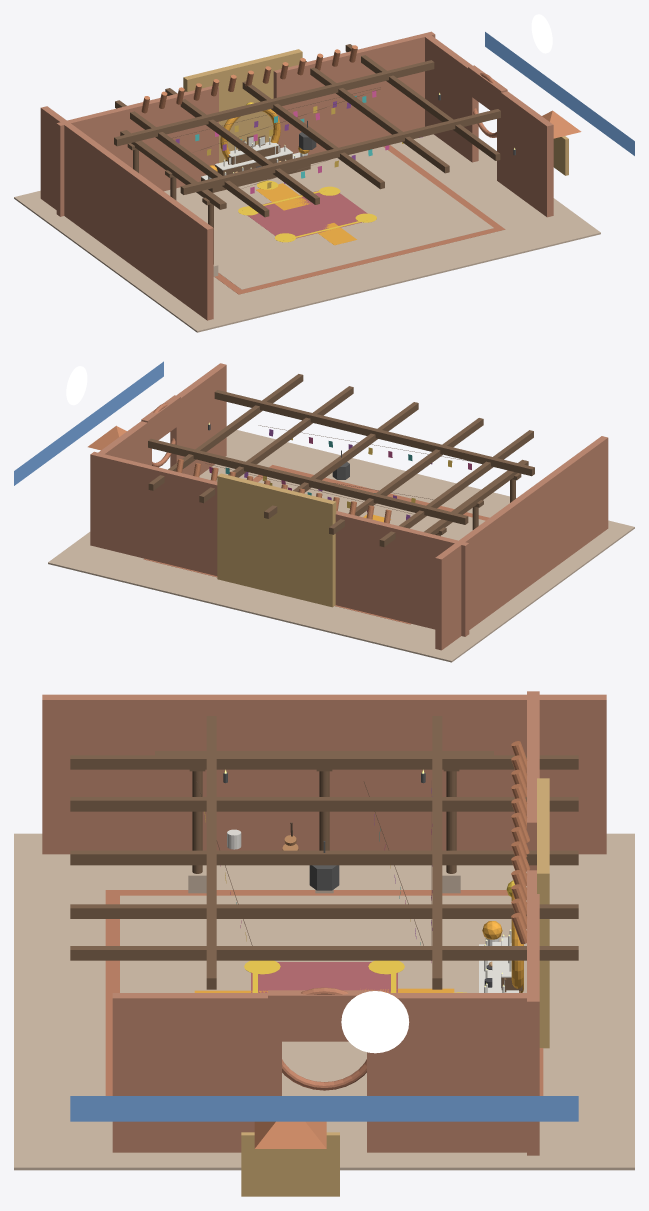
Rendered from room_mexico_recuerdos.glb.
The picture shows the model from 3 angles, top to bottom: view 1: azimuth 30°, elevation 25°; view 2: azimuth 150°, elevation 25°; view 3: azimuth 270°, elevation 25°; orthographic projection. The views are drawn at different scales.
Visible parts, largest first — view 1: Mexico_Floor_CobbleStone.001, Mexico_Floor_InnerTerrace.001, Mexico_LeftWall.001, Mexico_BackWall_Right.001, Mexico_BackWall_Left.001, Mexico_RightWall_South.001, Mexico_BackWall_Center.001, Mexico_RightWall_North.001, Mexico_TransverseBeam_4.001, Mexico_TransverseBeam_-4.001, Mexico_Rug_Serape.001, Mexico_NightSky_Backdrop.001 (+15 smaller); view 2: Mexico_Floor_CobbleStone.001, Mexico_LeftWall.001, Mexico_BackWall_Center.001, Mexico_BackWall_Right.001, Mexico_BackWall_Left.001, Mexico_RightWall_South.001, Mexico_TransverseBeam_4.001, Mexico_TransverseBeam_-4.001, Mexico_NightSky_Backdrop.001, Mexico_Floor_InnerTerrace.001, Mexico_Viga_-8.001, Mexico_Viga_-4.001 (+8 smaller); view 3: Mexico_Floor_CobbleStone.001, Mexico_LeftWall.001, Mexico_Floor_InnerTerrace.001, Mexico_RightWall_South.001, Mexico_RightWall_North.001, Mexico_NightSky_Backdrop.001, Mexico_Viga_0.001, Mexico_Viga_8.001, Mexico_Viga_-8.001, Mexico_Viga_4.001, Mexico_Viga_-4.001, Mexico_PuebloSilhouette_1.001 (+16 smaller).
Part boxes in pixels (box(x1,y1,x2,y2)): Mexico_Floor_CobbleStone.001: box(14, 134, 600, 332); Mexico_Floor_InnerTerrace.001: box(164, 146, 493, 289); Mexico_LeftWall.001: box(40, 106, 213, 320); Mexico_BackWall_Right.001: box(273, 31, 435, 154); Mexico_BackWall_Left.001: box(56, 86, 218, 216); Mexico_RightWall_South.001: box(497, 90, 553, 217); Mexico_BackWall_Center.001: box(183, 49, 302, 162); Mexico_RightWall_North.001: box(423, 33, 478, 162); Mexico_TransverseBeam_4.001: box(114, 60, 434, 146); Mexico_TransverseBeam_-4.001: box(180, 109, 500, 194); Mexico_Rug_Serape.001: box(247, 190, 367, 238); Mexico_NightSky_Backdrop.001: box(485, 32, 634, 155); Mexico_Floor_CobbleStone.001: box(48, 430, 634, 662); Mexico_LeftWall.001: box(435, 436, 608, 650); Mexico_BackWall_Center.001: box(217, 473, 336, 607); Mexico_BackWall_Right.001: box(90, 451, 217, 575); Mexico_BackWall_Left.001: box(335, 511, 469, 636); Mexico_RightWall_South.001: box(170, 363, 226, 475); Mexico_TransverseBeam_4.001: box(148, 438, 468, 524); Mexico_TransverseBeam_-4.001: box(214, 390, 534, 476); Mexico_NightSky_Backdrop.001: box(14, 361, 163, 485); Mexico_Floor_InnerTerrace.001: box(258, 476, 485, 540); Mexico_Viga_-8.001: box(379, 430, 533, 546); Mexico_Viga_-4.001: box(329, 418, 483, 534); Mexico_Floor_CobbleStone.001: box(14, 833, 634, 1170); Mexico_LeftWall.001: box(42, 694, 606, 854); Mexico_Floor_InnerTerrace.001: box(120, 895, 526, 1095); Mexico_RightWall_South.001: box(112, 993, 281, 1152); Mexico_RightWall_North.001: box(367, 993, 526, 1152); Mexico_NightSky_Backdrop.001: box(70, 1096, 578, 1121); Mexico_Viga_0.001: box(70, 850, 578, 865); Mexico_Viga_8.001: box(70, 946, 578, 960); Mexico_Viga_-8.001: box(70, 755, 578, 769); Mexico_Viga_4.001: box(70, 904, 578, 918); Mexico_Viga_-4.001: box(70, 797, 578, 811); Mexico_PuebloSilhouette_1.001: box(241, 1132, 339, 1196).
Bounding box in the file's own units: 31.57 × 8.6 × 22.
